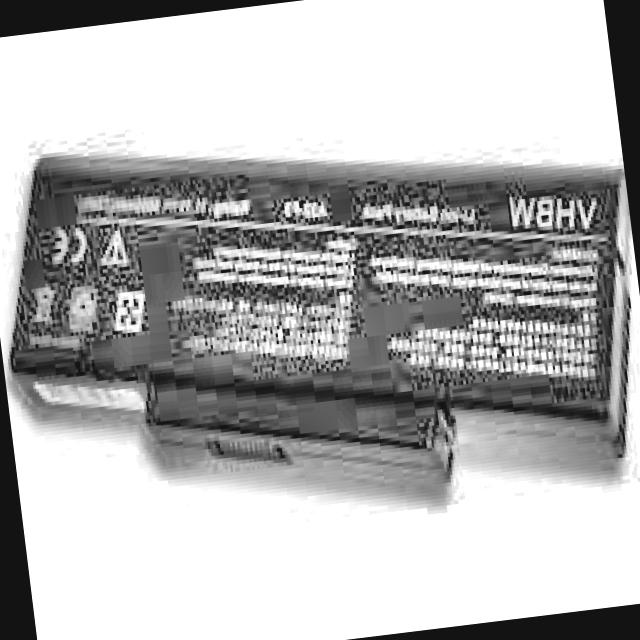Battery: (0, 69, 640, 570)
